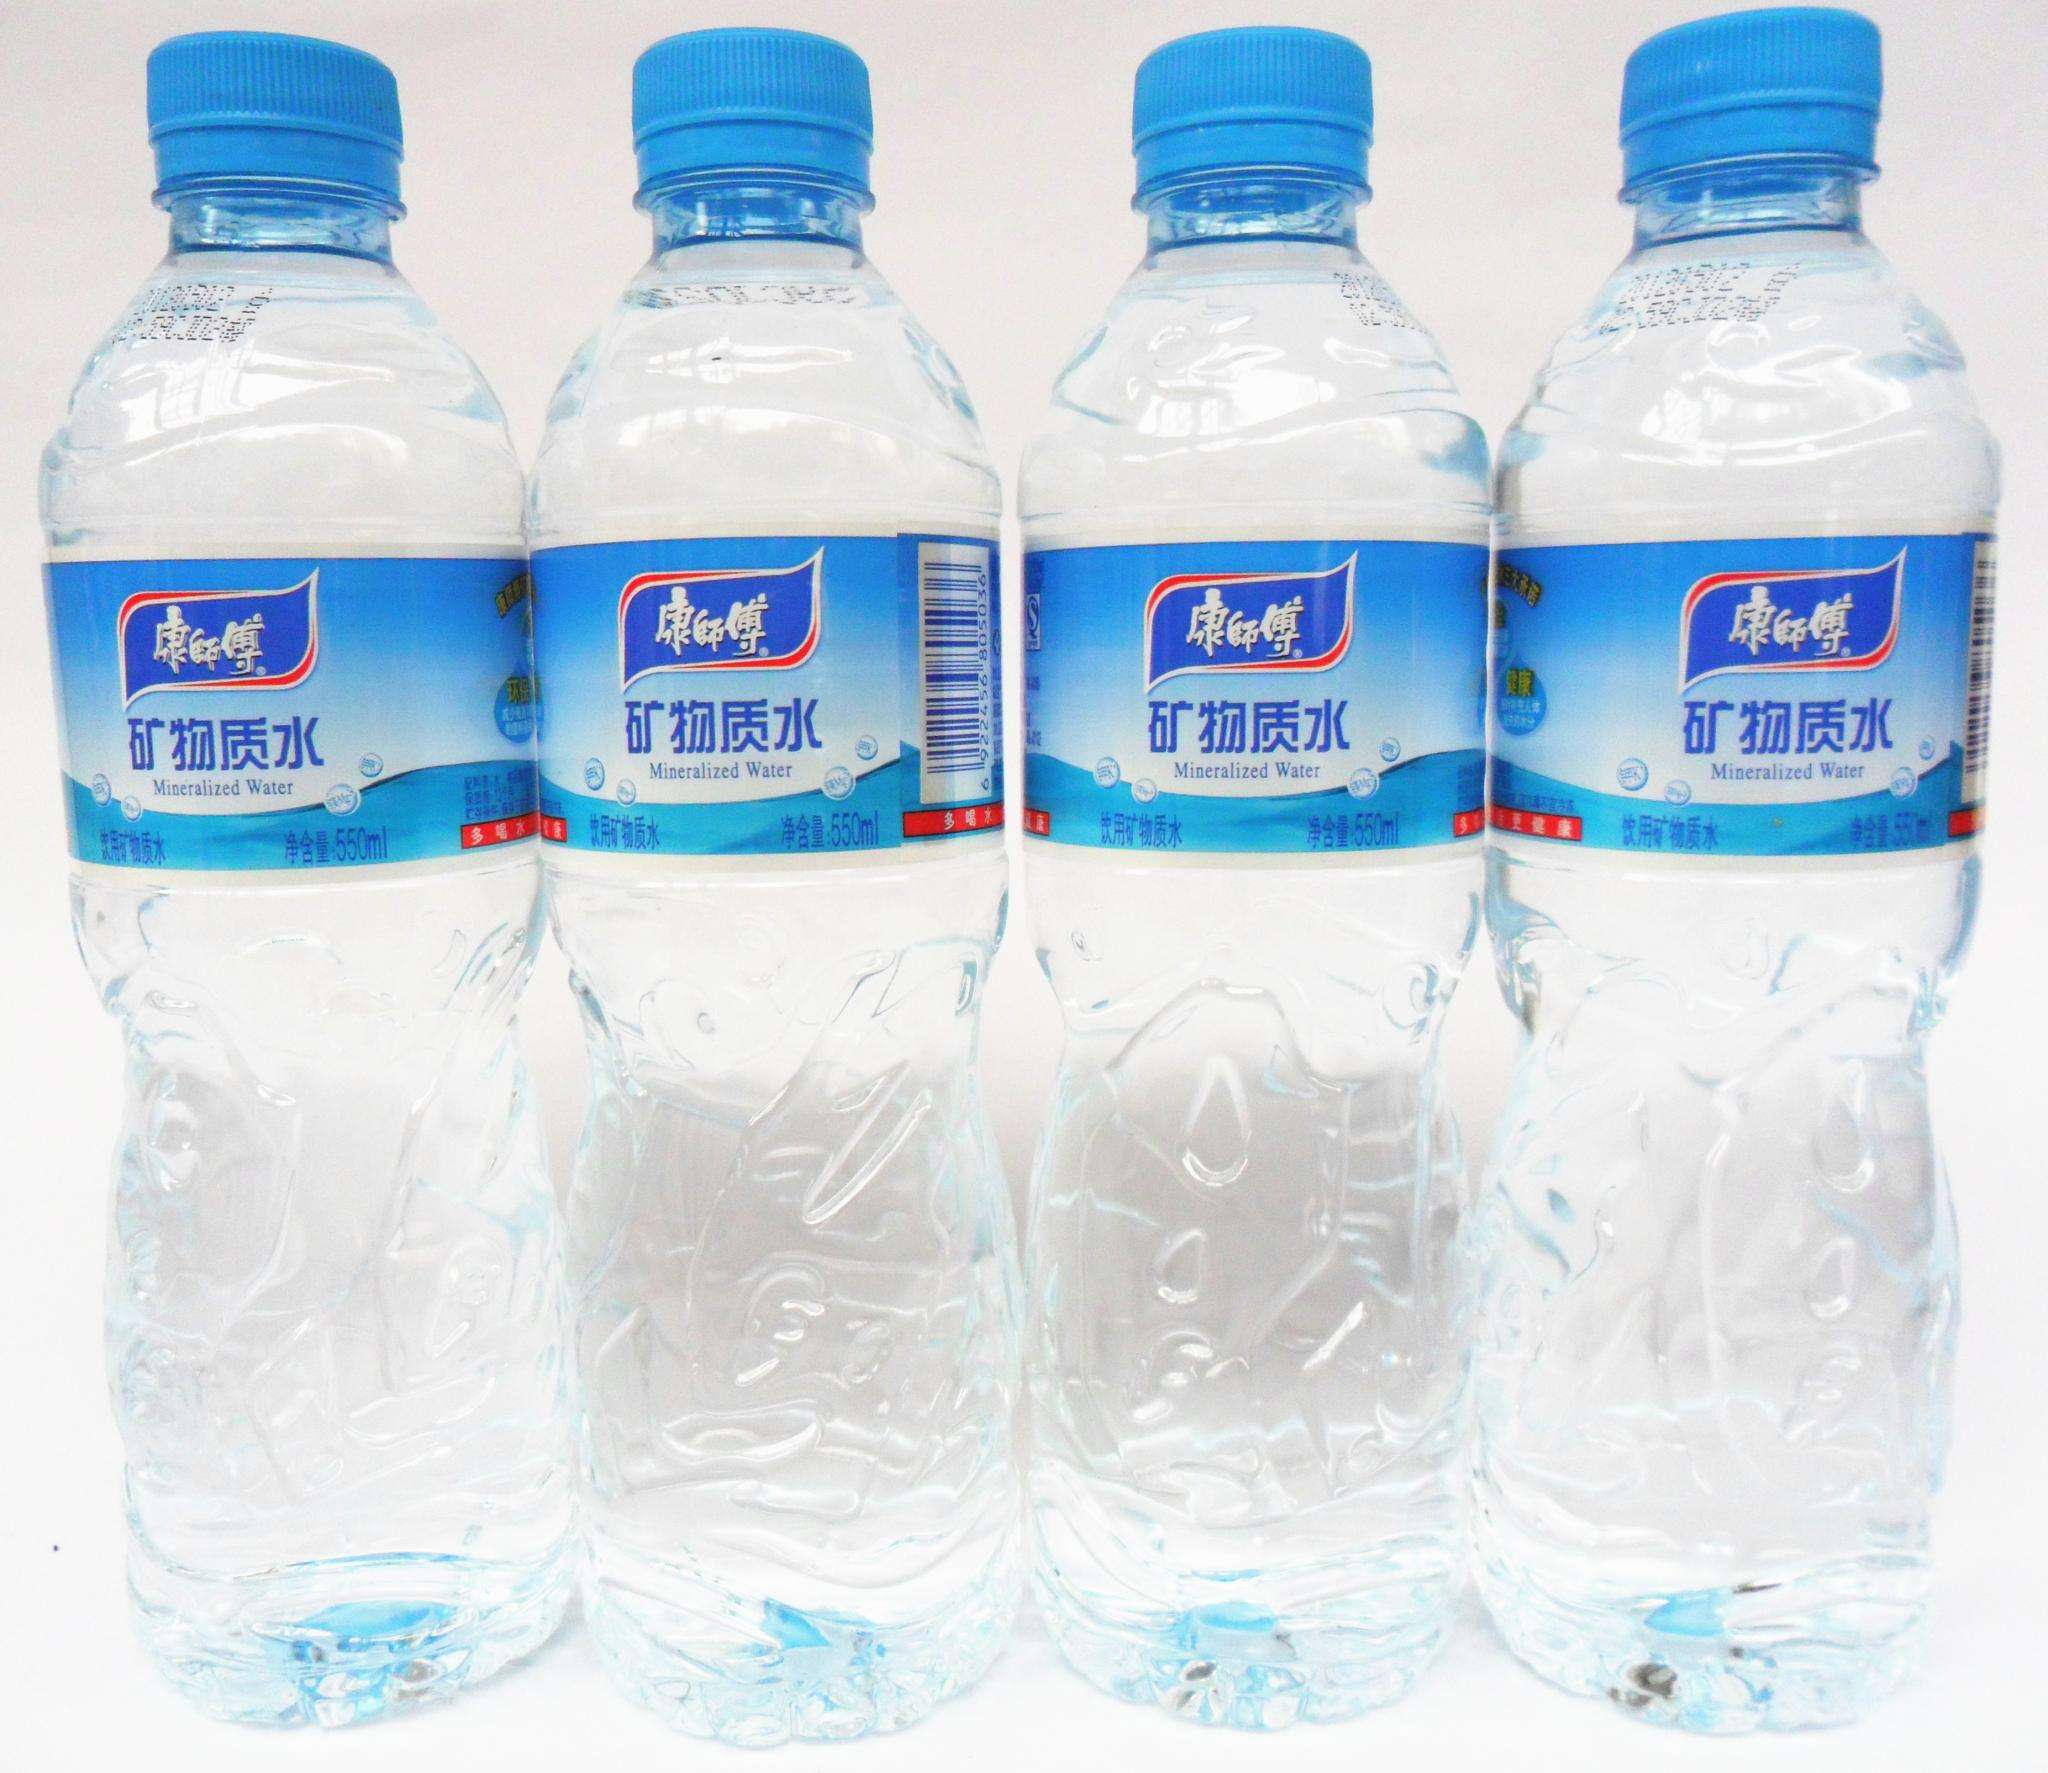amwater: (2, 9, 597, 1731), (1449, 5, 2001, 1754), (482, 2, 1027, 1745), (1021, 10, 1473, 1735)
